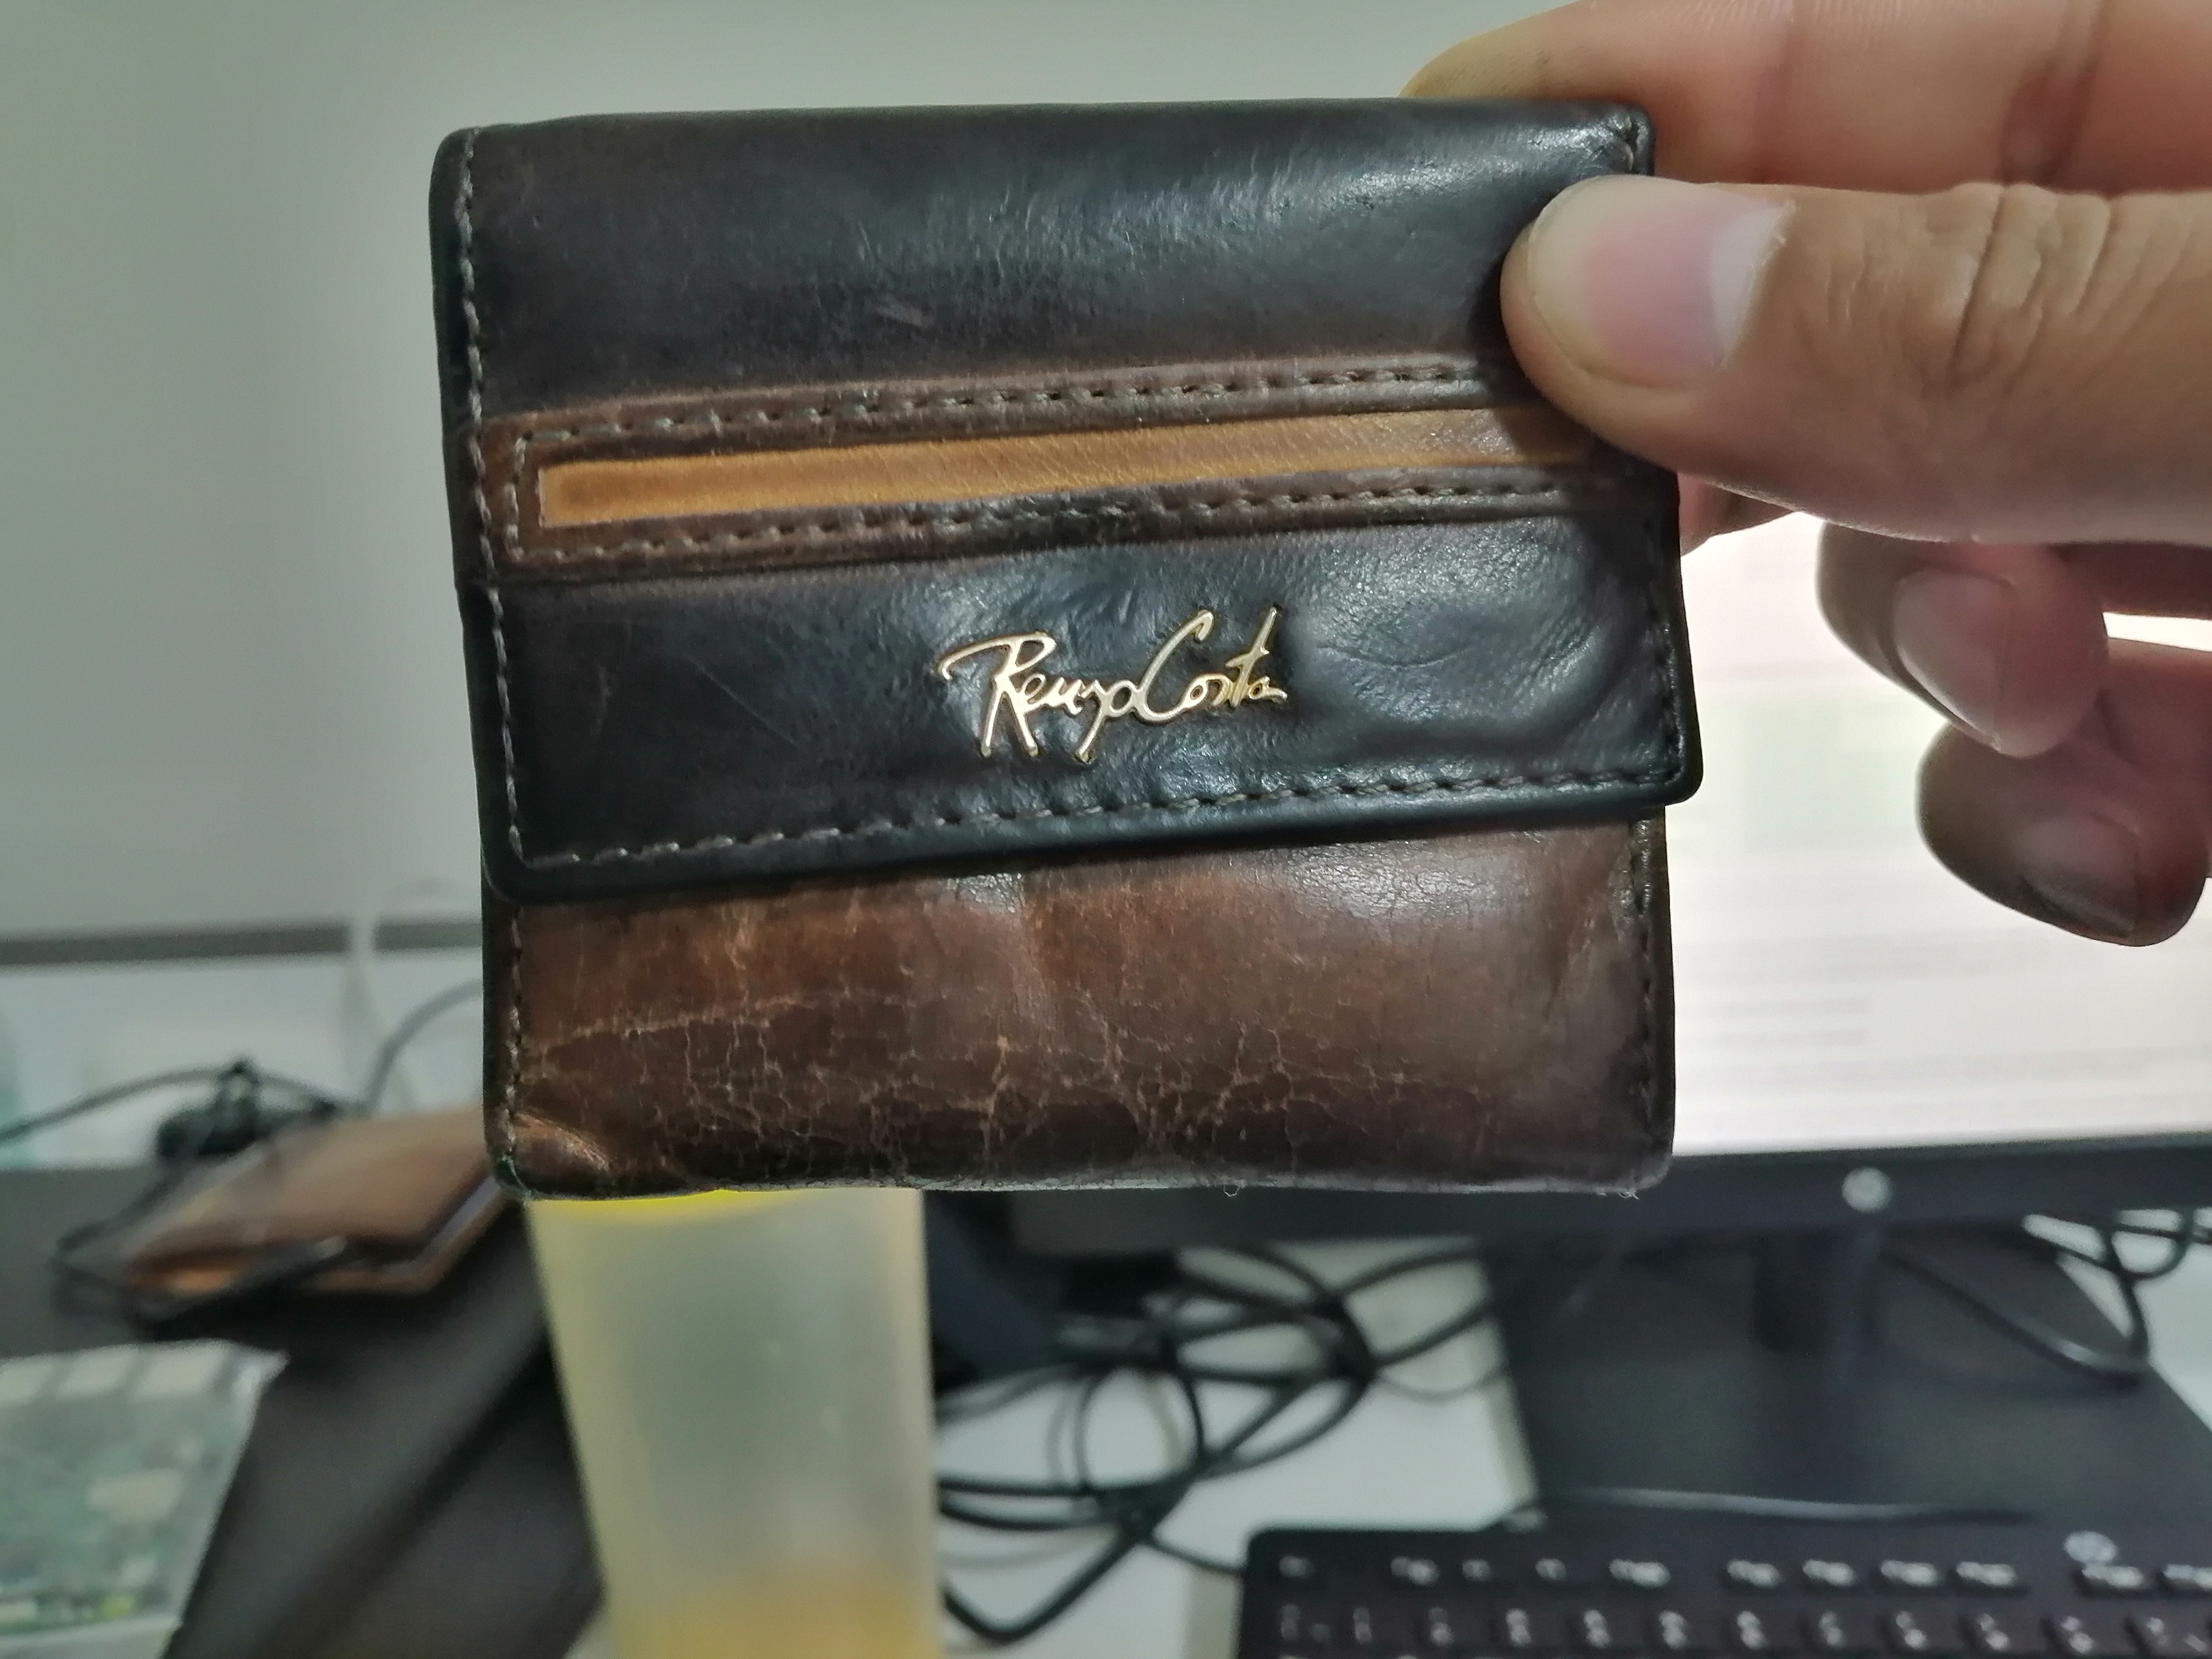monedero: (399, 78, 1714, 1218)
